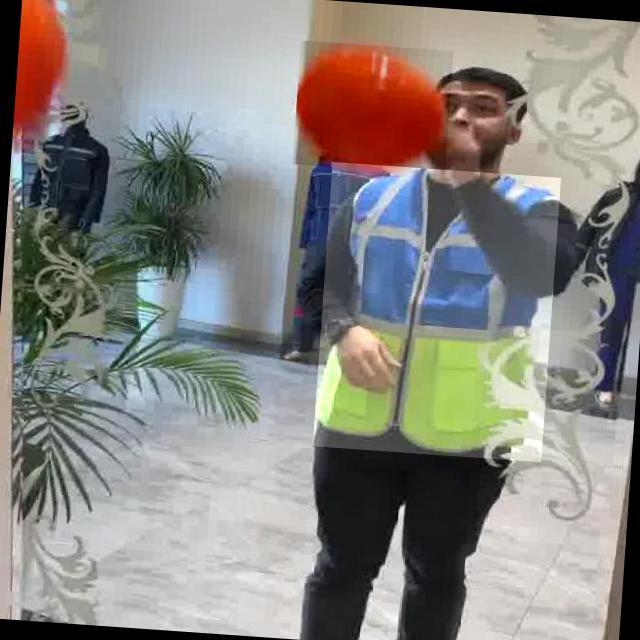Helmet: (293, 40, 455, 174)
Safety Vest: (313, 162, 562, 463)
